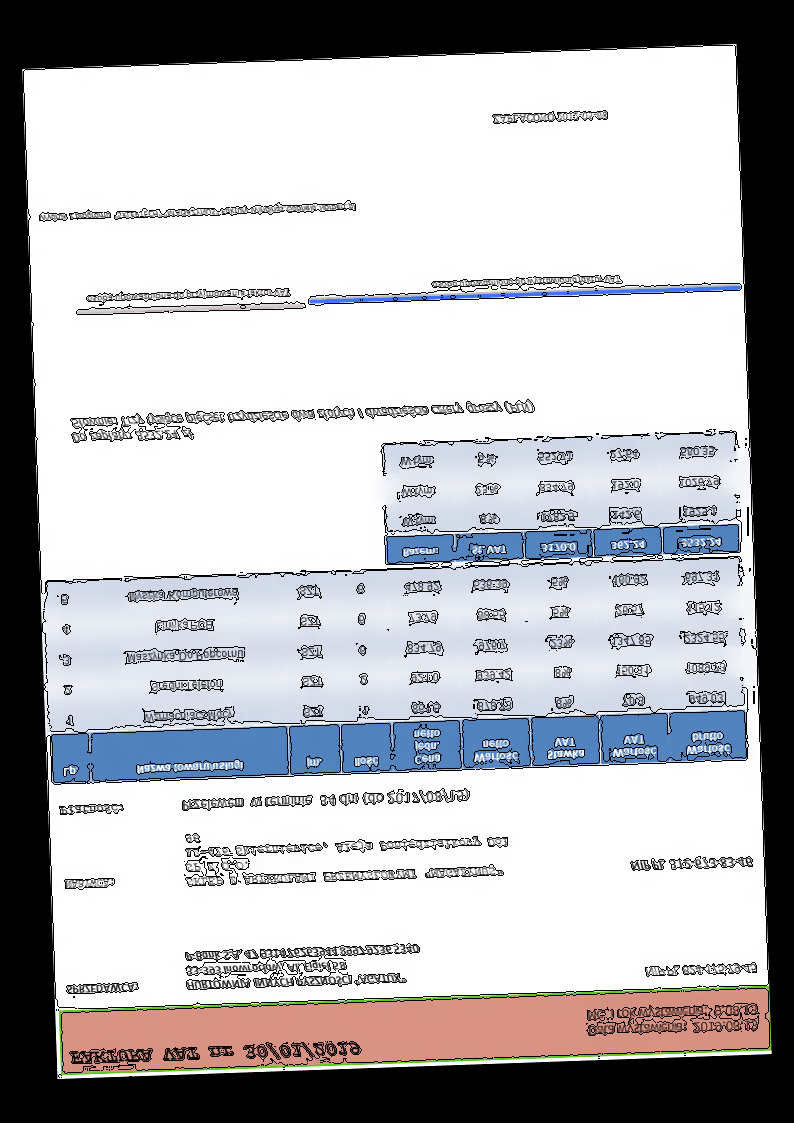Table: (44, 555, 749, 786), (381, 431, 742, 566), (69, 398, 536, 446)
TextBox: (180, 820, 513, 890), (183, 941, 422, 993), (67, 1037, 361, 1070), (36, 200, 358, 225), (179, 787, 470, 814), (584, 1002, 760, 1040), (83, 286, 291, 305), (429, 272, 622, 292), (627, 854, 754, 874), (642, 960, 758, 979), (491, 110, 609, 126), (64, 980, 139, 997), (58, 801, 125, 819), (61, 877, 117, 892)
